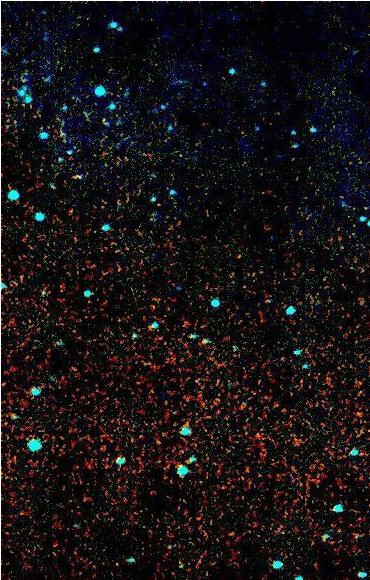star: (140, 196, 170, 226)
